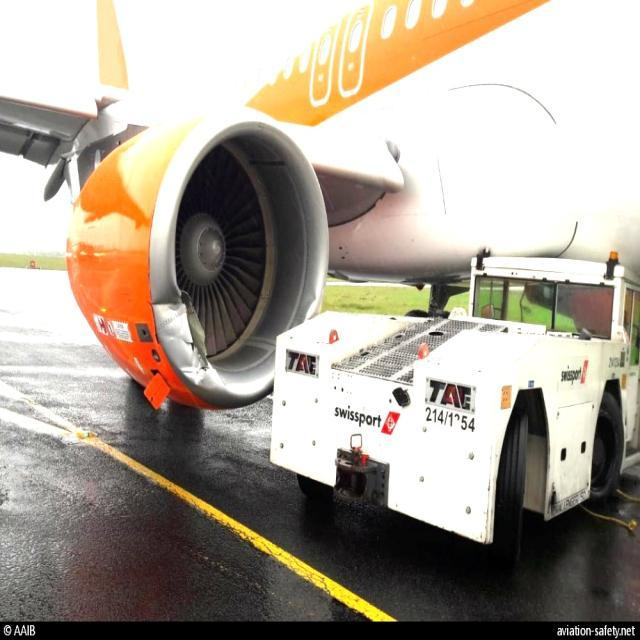crack: (182, 292, 210, 372)
dent: (153, 292, 189, 349), (301, 293, 324, 320)
